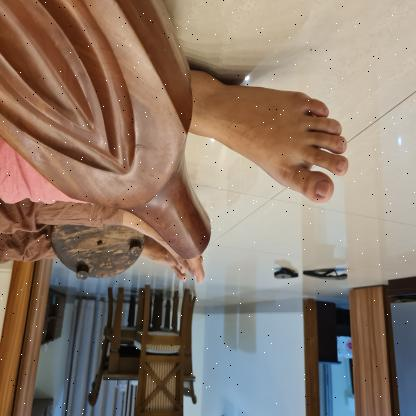leg: (188, 62, 354, 209)
